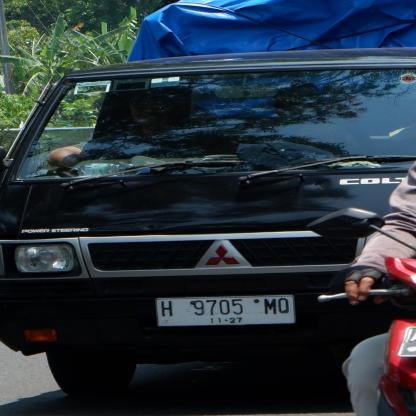Plat-Nomor: (152, 293, 297, 328)
